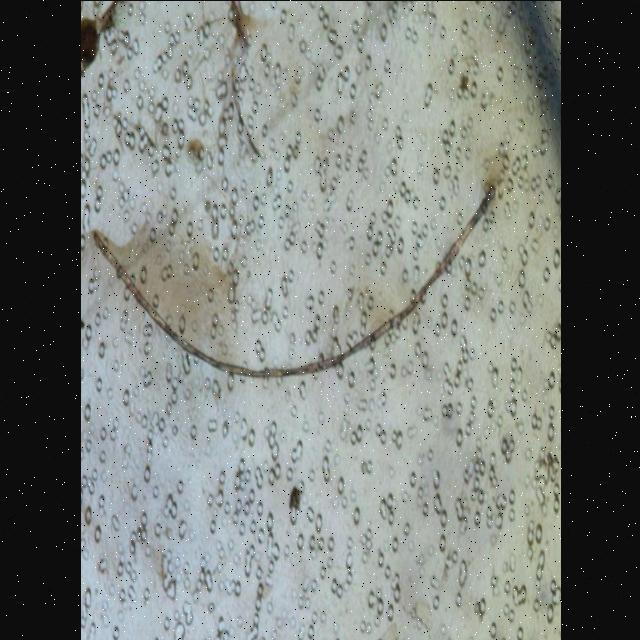Fibre: (90, 173, 500, 389)
